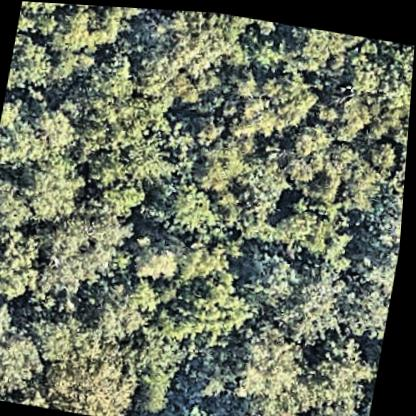tree-top: (178, 121, 300, 244), (154, 235, 266, 357), (121, 6, 250, 110), (255, 241, 353, 351), (35, 319, 144, 416), (220, 54, 321, 147), (227, 311, 319, 409), (37, 203, 135, 295), (66, 69, 169, 151), (276, 115, 365, 205), (330, 234, 403, 336), (333, 29, 415, 113), (294, 337, 376, 416), (269, 189, 363, 256), (19, 145, 94, 228), (241, 15, 340, 76), (46, 2, 118, 84), (89, 278, 157, 349), (0, 225, 58, 308), (122, 222, 187, 291), (0, 317, 48, 403), (0, 94, 51, 173), (6, 29, 58, 99), (158, 179, 223, 231), (122, 136, 180, 182), (0, 176, 38, 238), (18, 1, 63, 23)
